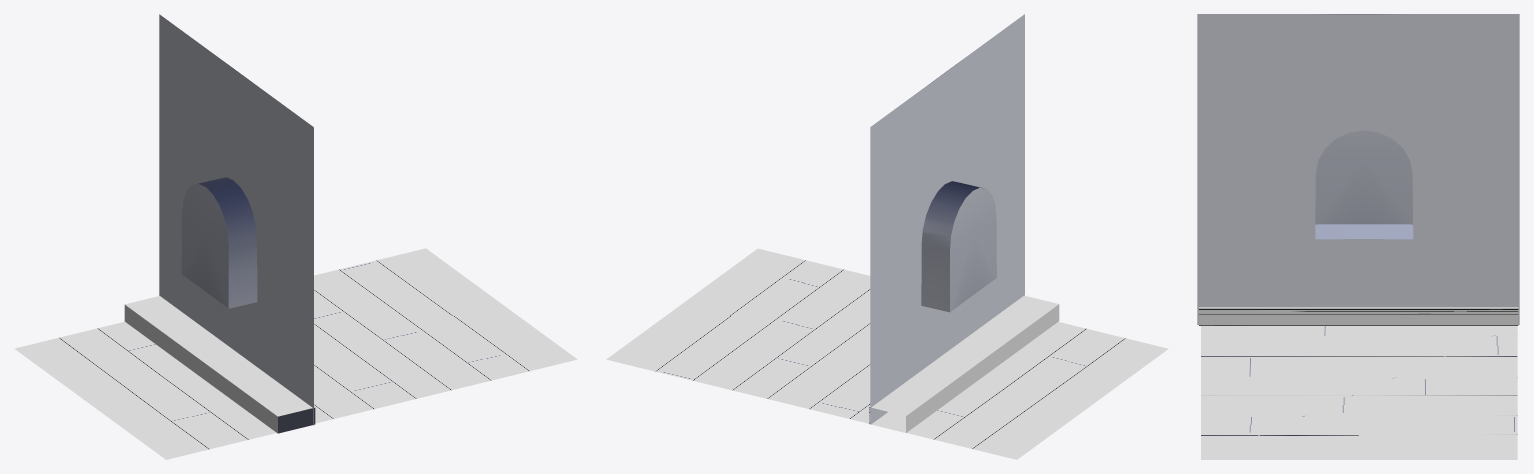
The model's file is end1.obj.
3 renders of one model, left to right at view 1: azimuth 30°, elevation 25°; view 2: azimuth 150°, elevation 25°; view 3: azimuth 270°, elevation 25°, orthographic. The views are drawn at different scales.
Visible parts, largest first — view 1: pCube6, pCube15, skirting_and_door_frame1; view 2: pCube6, pCube15, skirting_and_door_frame1; view 3: pCube15, pCube6, skirting_and_door_frame1.
Boxes of the visible parts, box(x1,y1,x2,y2) form: pCube6: box(14, 248, 577, 459); pCube15: box(159, 14, 313, 425); skirting_and_door_frame1: box(124, 296, 315, 433); pCube6: box(606, 248, 1168, 459); pCube15: box(870, 14, 1024, 424); skirting_and_door_frame1: box(869, 295, 1059, 432); pCube15: box(1197, 14, 1519, 324); pCube6: box(1201, 326, 1517, 459); skirting_and_door_frame1: box(1199, 307, 1518, 325).
Size of the model in its own units: 212 by 147 by 138.
Materials: 3 (3 with a texture image).
